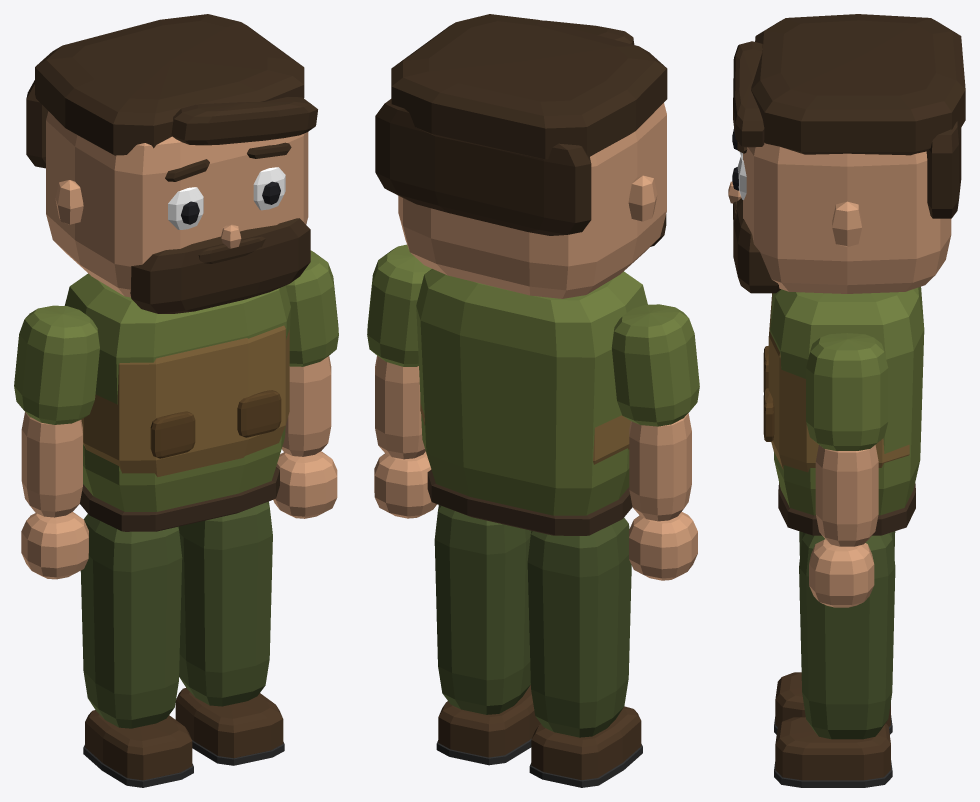
Rendered from hero-m.glb.
The picture shows the model from 3 angles, left to right: view 1: azimuth 30°, elevation 25°; view 2: azimuth 150°, elevation 25°; view 3: azimuth 270°, elevation 25°; orthographic projection. The views are drawn at different scales.
Visible parts, largest first — view 1: head, torso, leg-right, leg-left, arm-right, arm-left; view 2: head, torso, leg-right, leg-left, arm-right, arm-left; view 3: head, torso, leg-left, arm-left, leg-right.
Part boxes in pixels (bbox=[...]): head: bbox=[26, 14, 317, 313]; torso: bbox=[64, 273, 290, 531]; leg-right: bbox=[80, 514, 193, 787]; leg-left: bbox=[175, 501, 284, 765]; arm-right: bbox=[14, 305, 99, 579]; arm-left: bbox=[273, 250, 338, 518]; head: bbox=[375, 14, 667, 298]; torso: bbox=[416, 269, 647, 535]; leg-right: bbox=[527, 517, 642, 787]; leg-left: bbox=[434, 505, 540, 765]; arm-right: bbox=[611, 304, 699, 580]; arm-left: bbox=[367, 244, 436, 518]; head: bbox=[728, 14, 965, 293]; torso: bbox=[763, 286, 924, 535]; leg-left: bbox=[774, 532, 895, 787]; arm-left: bbox=[806, 333, 888, 607]; leg-right: bbox=[774, 531, 895, 734].
Bounding box in the file's own units: 1.29 × 2.73 × 0.8497.
